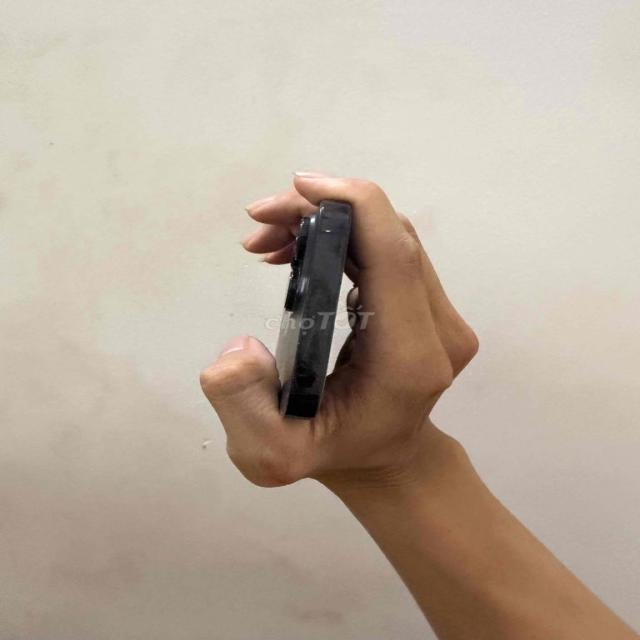gen_14: (253, 190, 367, 423)
